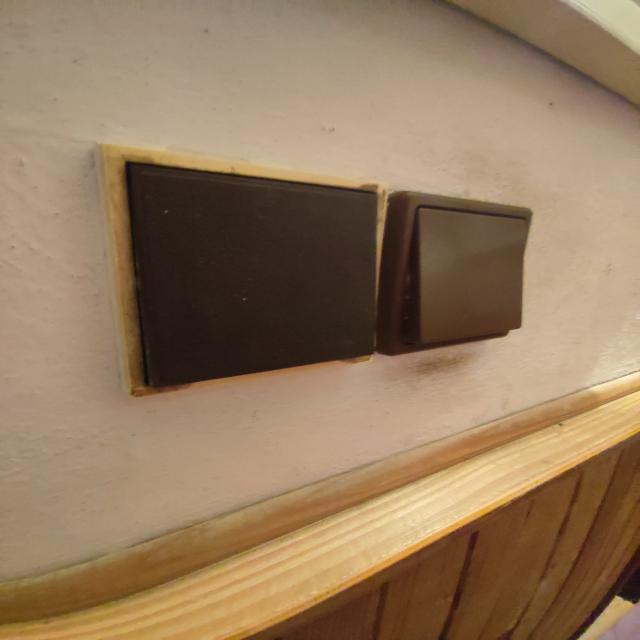house switch: (97, 143, 388, 398), (375, 191, 533, 356)
